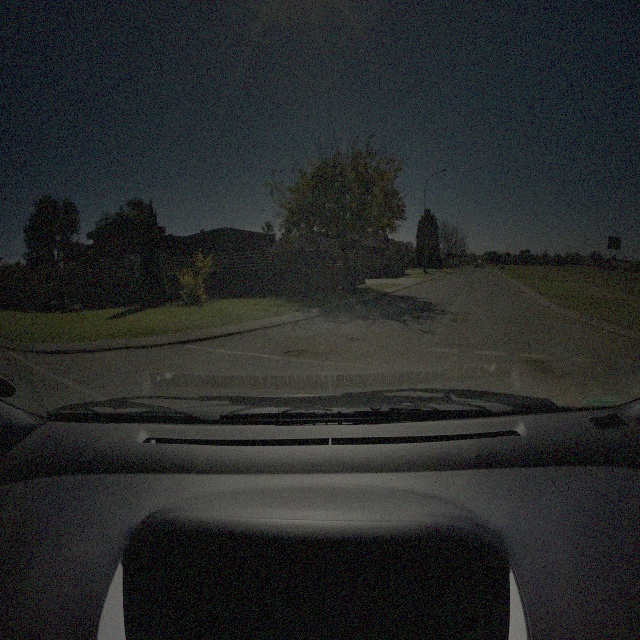pothole: (527, 360, 552, 381), (285, 349, 312, 360), (452, 314, 471, 328), (525, 355, 542, 369), (350, 335, 360, 343)
